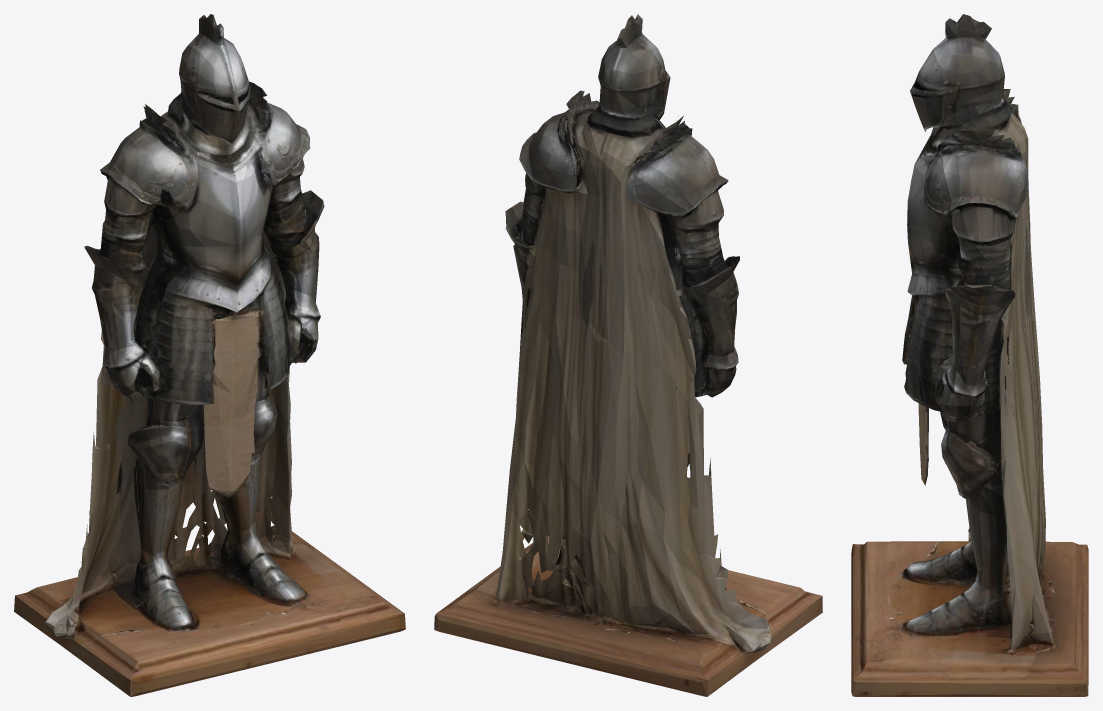
The model's file is armour_stand_knight_lod0.glb.
3 views of the same model, side by side, from view 1: azimuth 30°, elevation 25°; view 2: azimuth 150°, elevation 25°; view 3: azimuth 270°, elevation 25° (orthographic).
Visible parts, largest first — view 1: armour_stand_knight_lod0; view 2: armour_stand_knight_lod0; view 3: armour_stand_knight_lod0.
Part boxes in pixels (x1,y1,x2,y2): armour_stand_knight_lod0: [14, 14, 405, 696]; armour_stand_knight_lod0: [434, 14, 822, 696]; armour_stand_knight_lod0: [851, 14, 1088, 696].
Size of the model in its own units: 0.9276 by 1.89 by 0.6576.
1 material, 1 textured.
